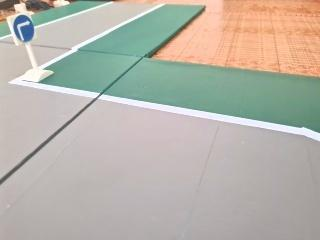right: (7, 8, 41, 48)
